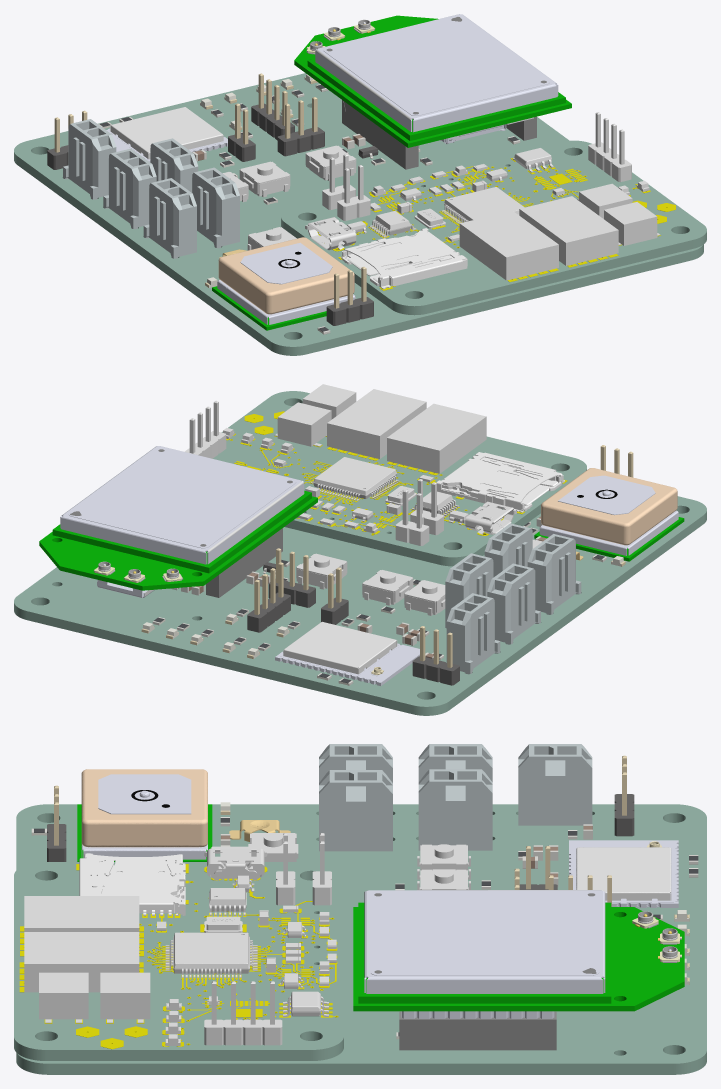
The model's file is DataAcqLeaderBoard.gltf.
The picture shows the model from 3 angles, top to bottom: view 1: azimuth 30°, elevation 25°; view 2: azimuth 150°, elevation 25°; view 3: azimuth 270°, elevation 25°; orthographic projection. The views are drawn at different scales.
Parts seen in each view (by area): view 1: Node43, Node5, Node4, Node42, Node12, Node23, Node33, Node40, Node13, Node38, Node8, Node2 (+4 smaller); view 2: Node43, Node5, Node4, Node42, Node12, Node23, Node33, Node13, Node40, Node38, Node8, Node35 (+5 smaller); view 3: Node43, Node4, Node5, Node42, Node12, Node23, Node33, Node8, Node13, Node2, Node1, Node10 (+6 smaller).
Part boxes in pixels (<box>): Node43: <box>14,73,706,355</box>; Node5: <box>223,112,660,280</box>; Node4: <box>106,14,558,324</box>; Node42: <box>63,119,239,258</box>; Node12: <box>212,15,571,330</box>; Node23: <box>218,237,354,314</box>; Node33: <box>340,228,467,289</box>; Node40: <box>47,103,378,325</box>; Node13: <box>110,107,223,159</box>; Node38: <box>54,73,366,308</box>; Node8: <box>342,100,536,169</box>; Node2: <box>338,166,675,290</box>; Node43: <box>14,391,706,715</box>; Node5: <box>184,384,542,615</box>; Node4: <box>60,446,678,685</box>; Node42: <box>445,523,581,674</box>; Node12: <box>39,490,684,590</box>; Node23: <box>541,468,677,545</box>; Node33: <box>436,452,564,512</box>; Node13: <box>283,621,397,674</box>; Node40: <box>247,562,459,685</box>; Node38: <box>141,445,633,667</box>; Node8: <box>206,528,282,597</box>; Node35: <box>152,518,606,685</box>; Node43: <box>14,804,706,1074</box>; Node4: <box>81,774,678,1018</box>; Node5: <box>24,833,470,1045</box>; Node42: <box>319,744,592,851</box>; Node12: <box>77,804,684,1011</box>; Node23: <box>81,769,207,847</box>; Node33: <box>79,853,185,915</box>; Node8: <box>399,1011,556,1050</box>; Node13: <box>576,847,671,900</box>; Node2: <box>76,864,337,1049</box>; Node1: <box>19,866,332,1046</box>; Node10: <box>204,846,267,880</box>.
Size of the model in its own units: 80.37 by 14.28 by 90.3.
